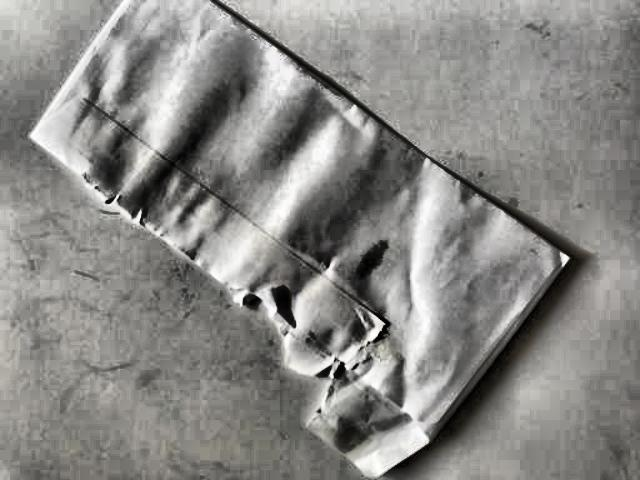Paper: (21, 0, 566, 470)
